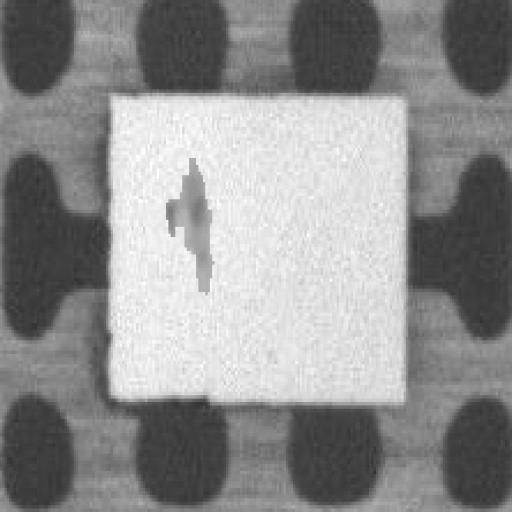DIE_INK: (157, 148, 212, 292)
